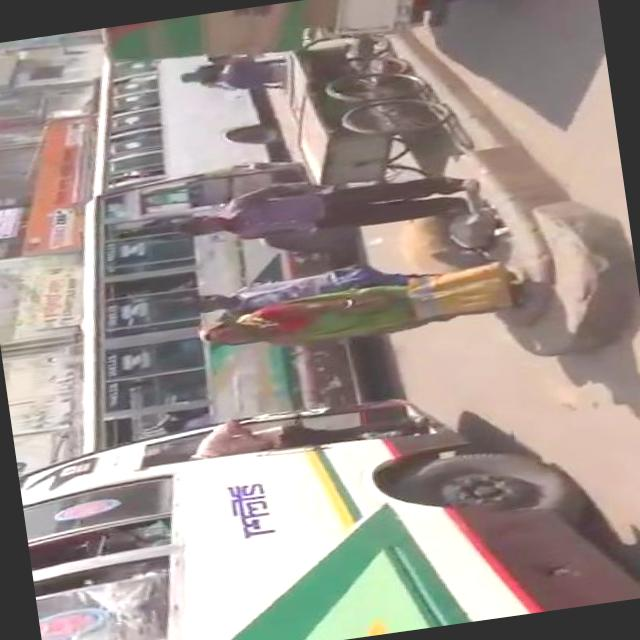bus: (14, 359, 640, 640), (38, 142, 398, 454), (70, 30, 288, 208)
truck: (97, 0, 485, 68)
